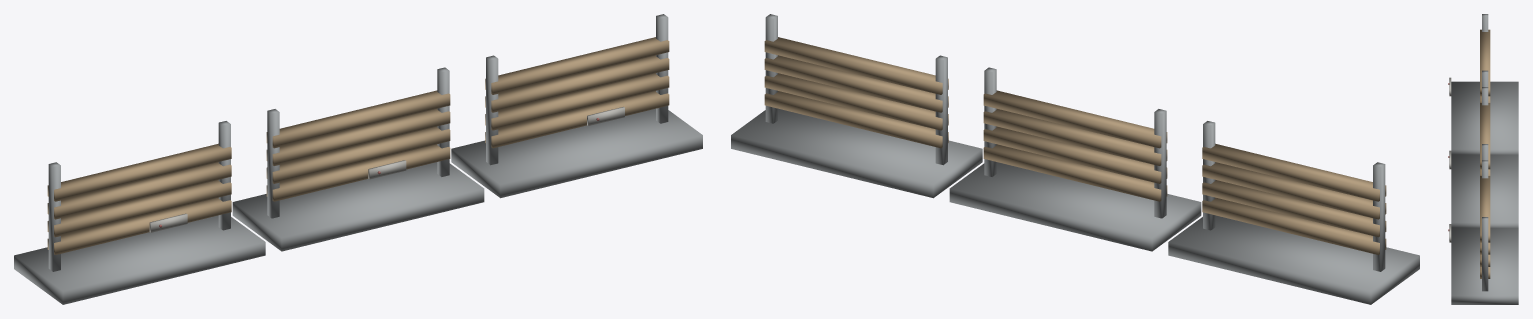
The model's file is lumber_cart__cluster.glb.
3 renders of one model, left to right at view 1: azimuth 30°, elevation 25°; view 2: azimuth 150°, elevation 25°; view 3: azimuth 270°, elevation 25°, orthographic. The views are drawn at different scales.
Parts seen in each view (by area): view 1: world; view 2: world; view 3: world.
Boxes of the visible parts, box(x1,y1,x2,y2) form: world: box(14, 14, 702, 304); world: box(731, 14, 1419, 304); world: box(1448, 14, 1518, 304).
Bounding box in the file's own units: 4.9 × 0.865 × 0.681.
